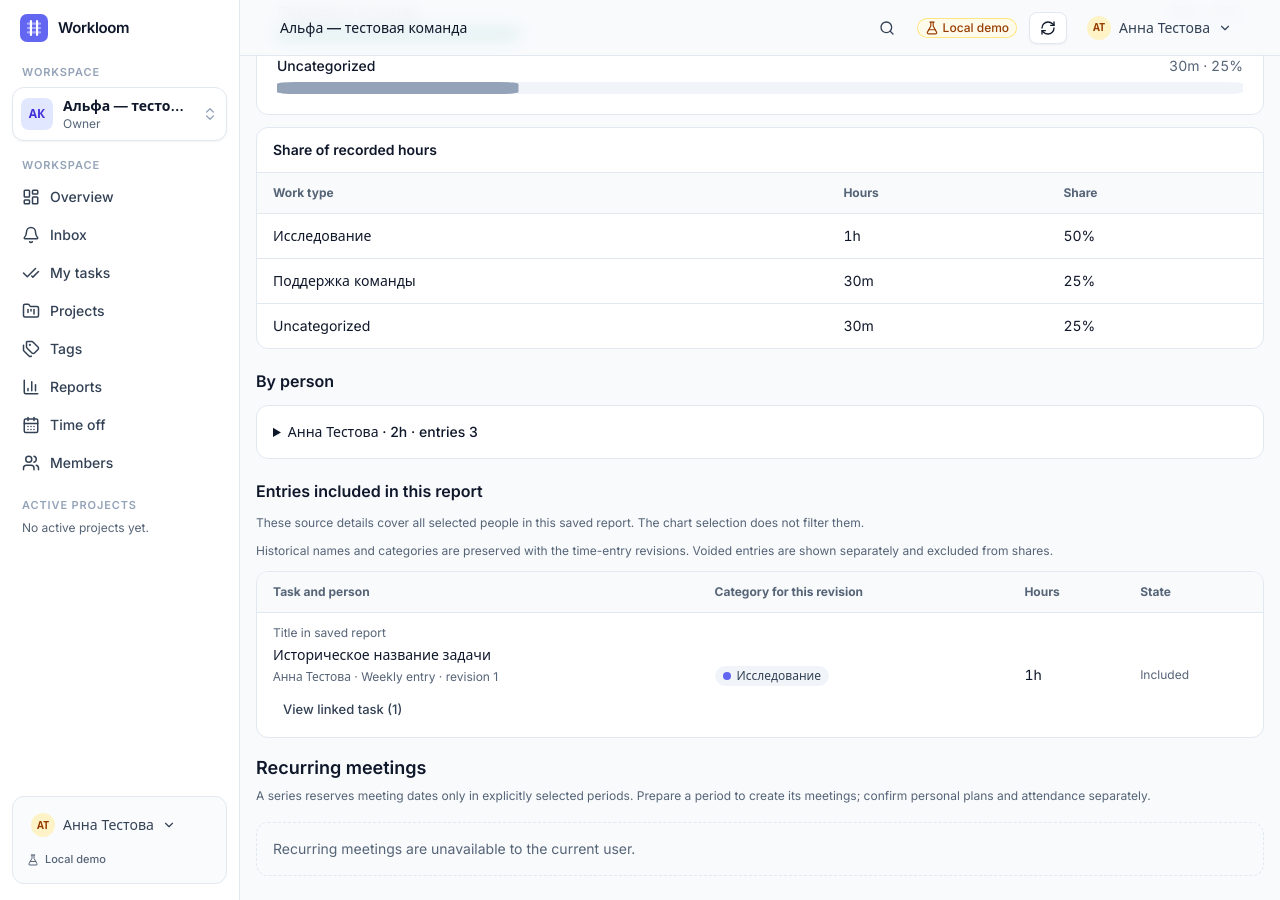
Test case: saved report current-task destinations › keeps saved work-type source labels and percentages separate from current task titles
This screenshot has width=1280, height=900.
(page scrolled)
Expected: the text "Историческое название задачи" is shown, top-left (273, 646), bottom-right (491, 663)
Step 1. Click the button "View linked task (1)" → (343, 709), box top-left (273, 693), bottom-right (412, 725)
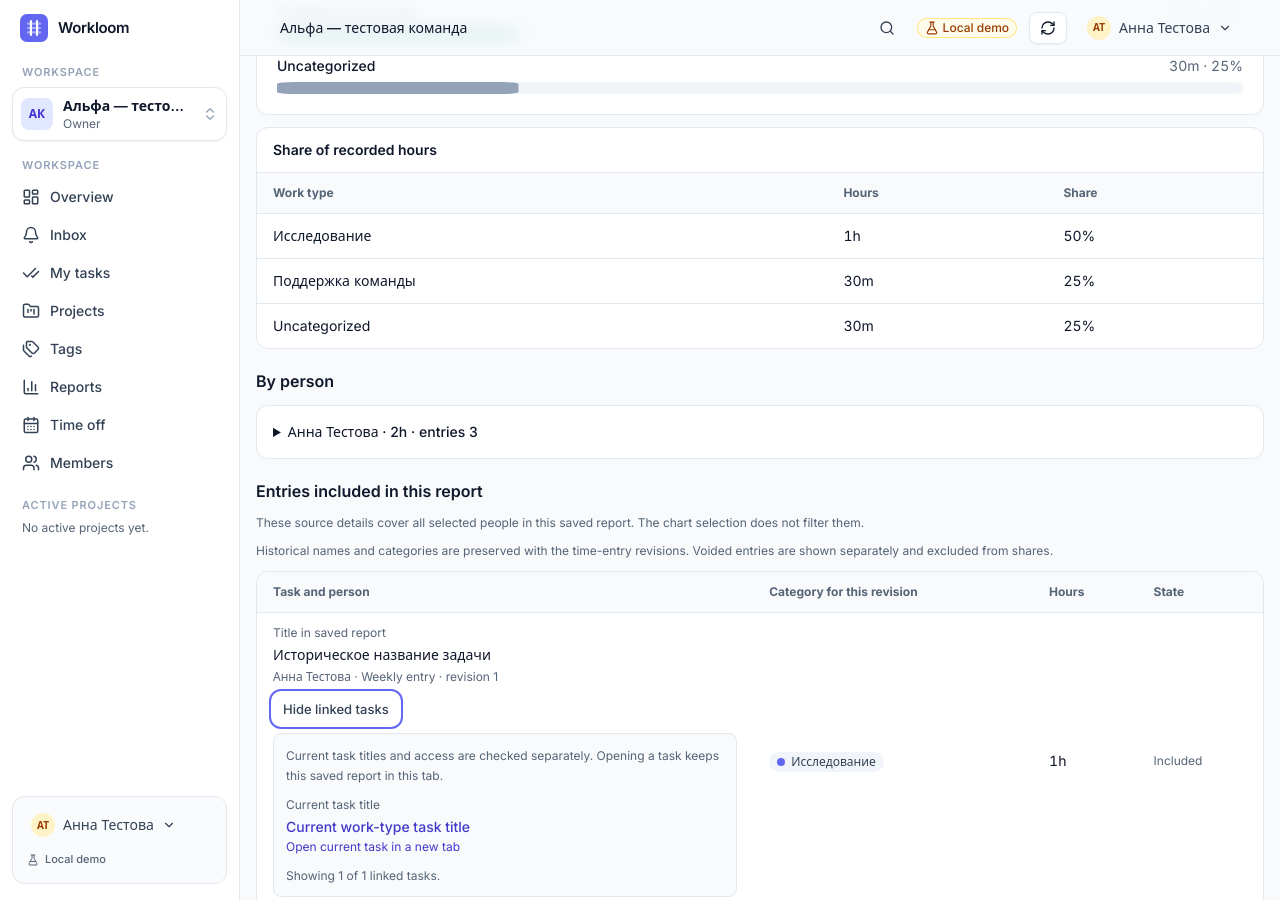
Expected: the text "Title in saved report" is shown, top-left (273, 625), bottom-right (386, 640)
Now the link "Current work-type task title Open current task in a new tab" is shown, box top-left (286, 817), bottom-right (470, 855)
Now the text "Current task title" is shown, box top-left (286, 797), bottom-right (380, 812)
